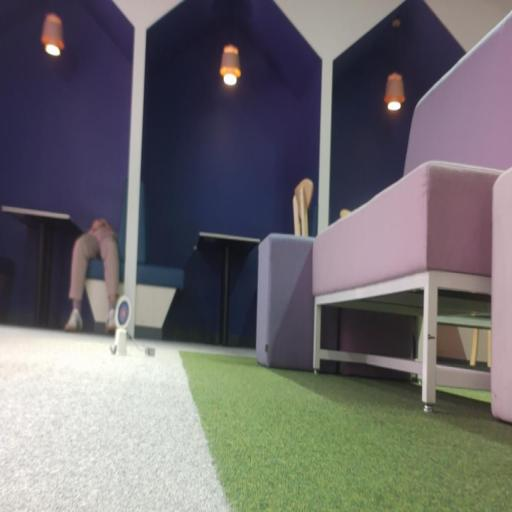target: (115, 295, 130, 329)
